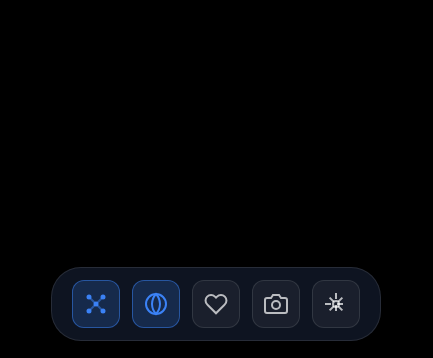
Scenario: ARControls › opens settings panel
Expected: the text "Display Settings" is not shown
Click to open
Click the button named "Open settings" at x=336, y=304, box [312, 280, 360, 328]
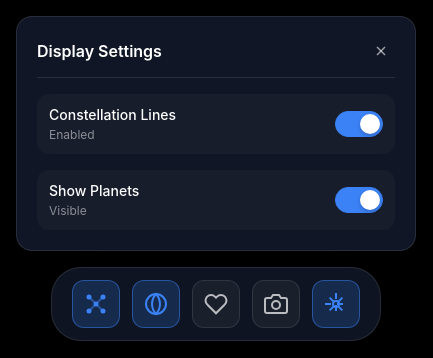
Now the heading "Display Settings" is shown, box [37, 41, 162, 61]
